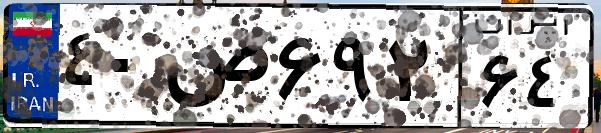0: (110, 28, 158, 98)
2: (385, 28, 445, 110)
4: (57, 26, 110, 100), (525, 38, 570, 115)
6: (270, 28, 330, 110), (475, 38, 525, 113)
9: (330, 28, 385, 110)
ص: (158, 20, 270, 120)
